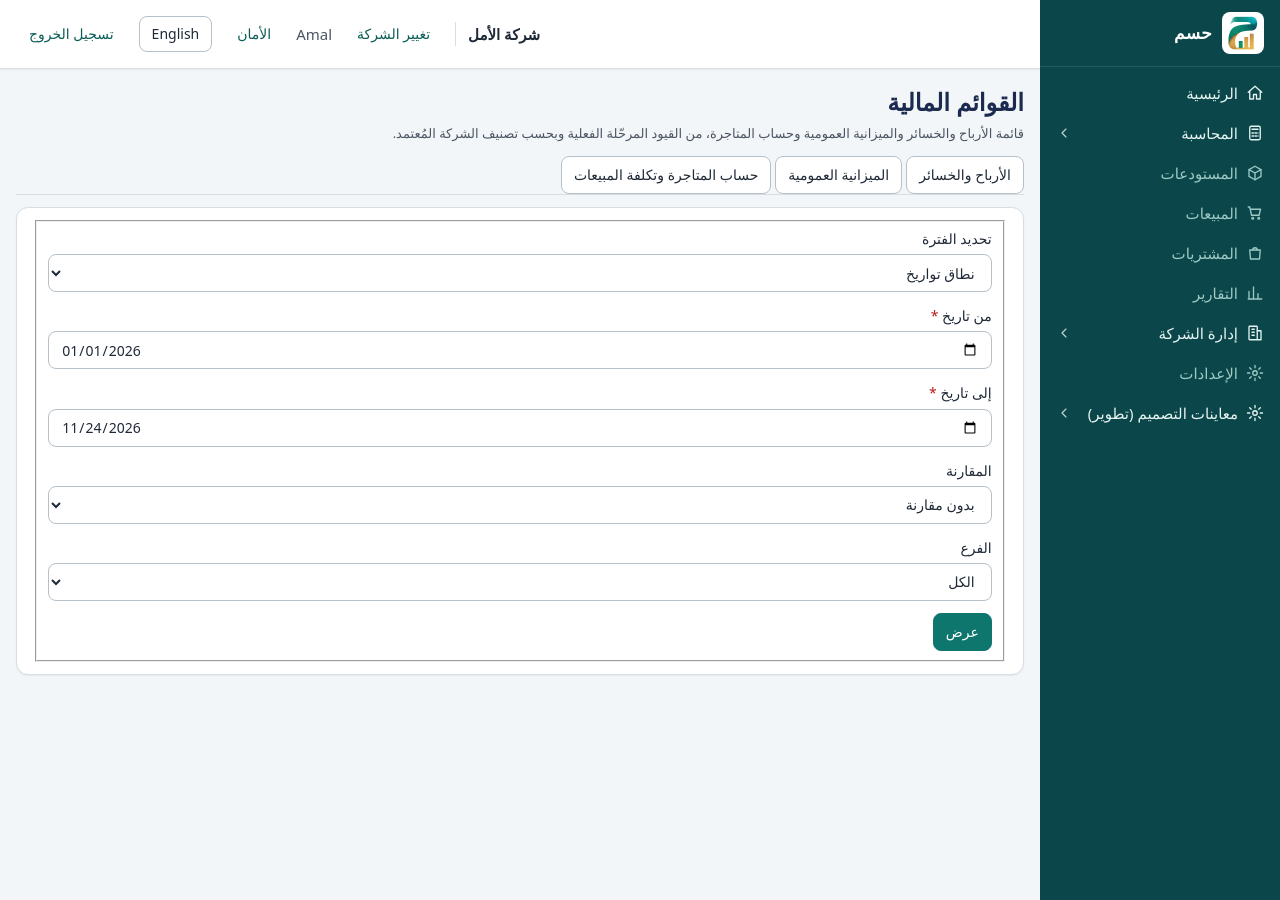
it: financial statements screen › explains that there is no classification at all and does not offer the classification without its permission
The width and height of the screenshot is (1280, 900).
Expected: the element with test id "company-name" is shown, [455,22,540,46]
Click the button "عرض" at [962, 632], box [933,613,992,651]
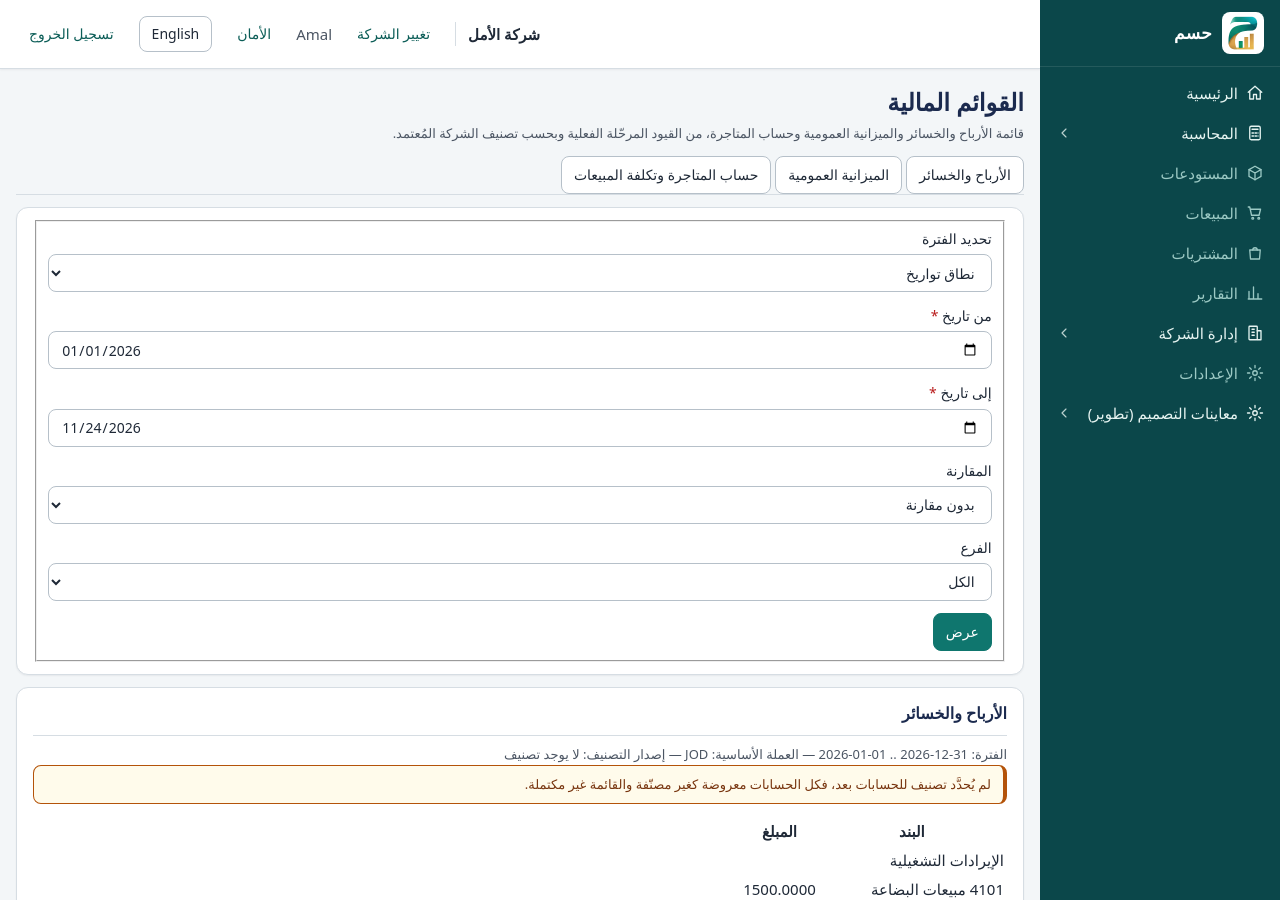
Expected: the message with test id "st-incomplete" shows "لم يُحدَّد تصنيف للحسابات بعد، فكل الحسابات معروضة كغير مصنّفة والقائمة غير مكتملة.", [525,775,991,793]
Expected: the text with test id "st-mapping" reads "لا يوجد تصنيف", [504,744,580,762]
